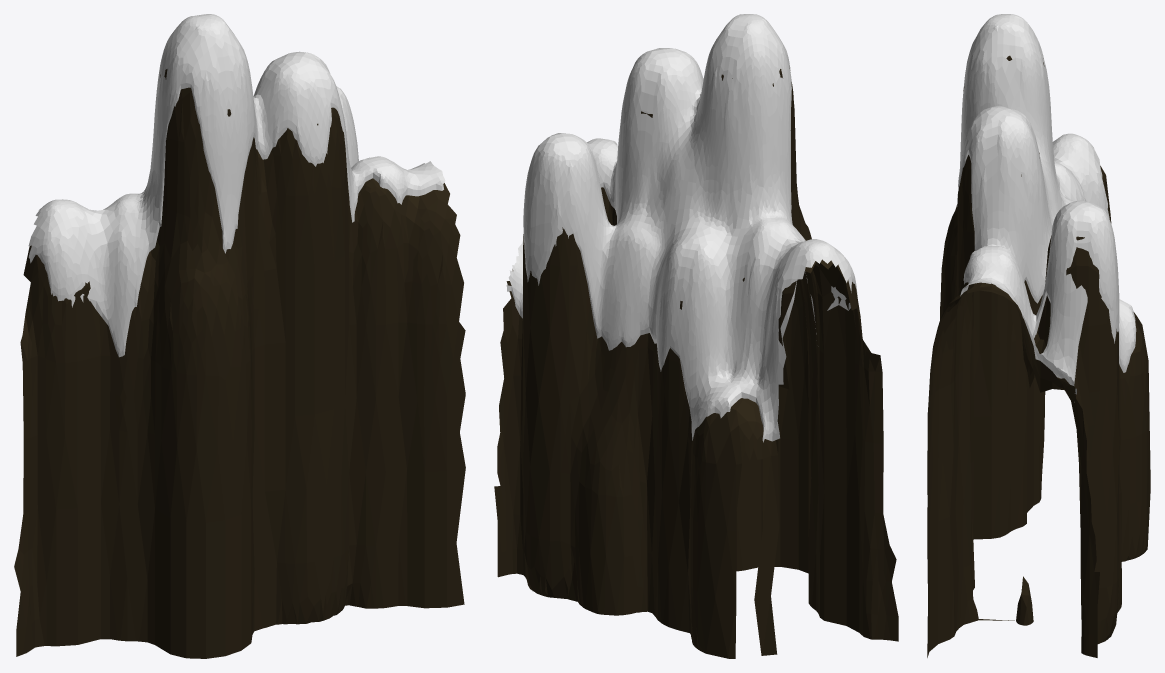
File: Mtn_Wall_S0.fbx
3 renders of one model, left to right at view 1: azimuth 30°, elevation 25°; view 2: azimuth 150°, elevation 25°; view 3: azimuth 270°, elevation 25°, orthographic. The views are drawn at different scales.
Visible parts, largest first — view 1: Mtn_Wall_S0; view 2: Mtn_Wall_S0; view 3: Mtn_Wall_S0.
Part boxes in pixels (bbox=[...]): Mtn_Wall_S0: bbox=[14, 14, 465, 658]; Mtn_Wall_S0: bbox=[494, 14, 898, 658]; Mtn_Wall_S0: bbox=[927, 14, 1150, 657].
Bounding box in the file's own units: 18459 × 27360 × 10141.
